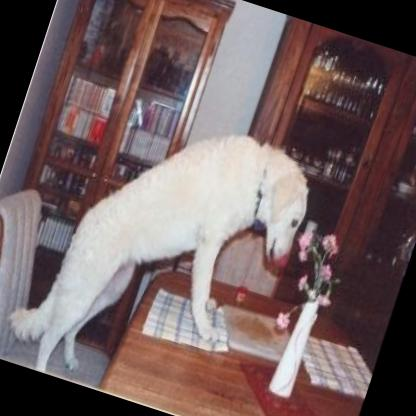kuvasz: (0, 81, 324, 416)
